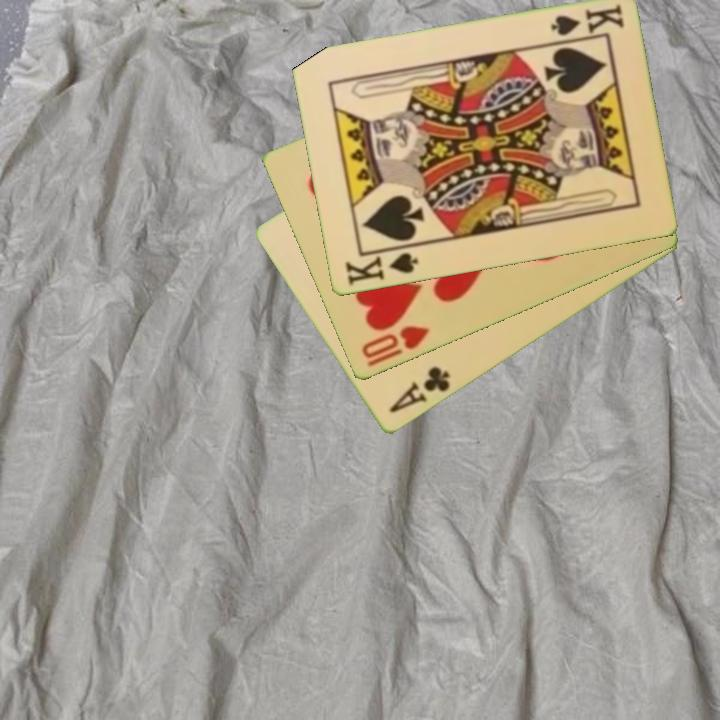10h: (357, 322, 433, 362)
Ac: (385, 363, 453, 417)
Ks: (341, 243, 421, 289), (547, 1, 627, 40)
